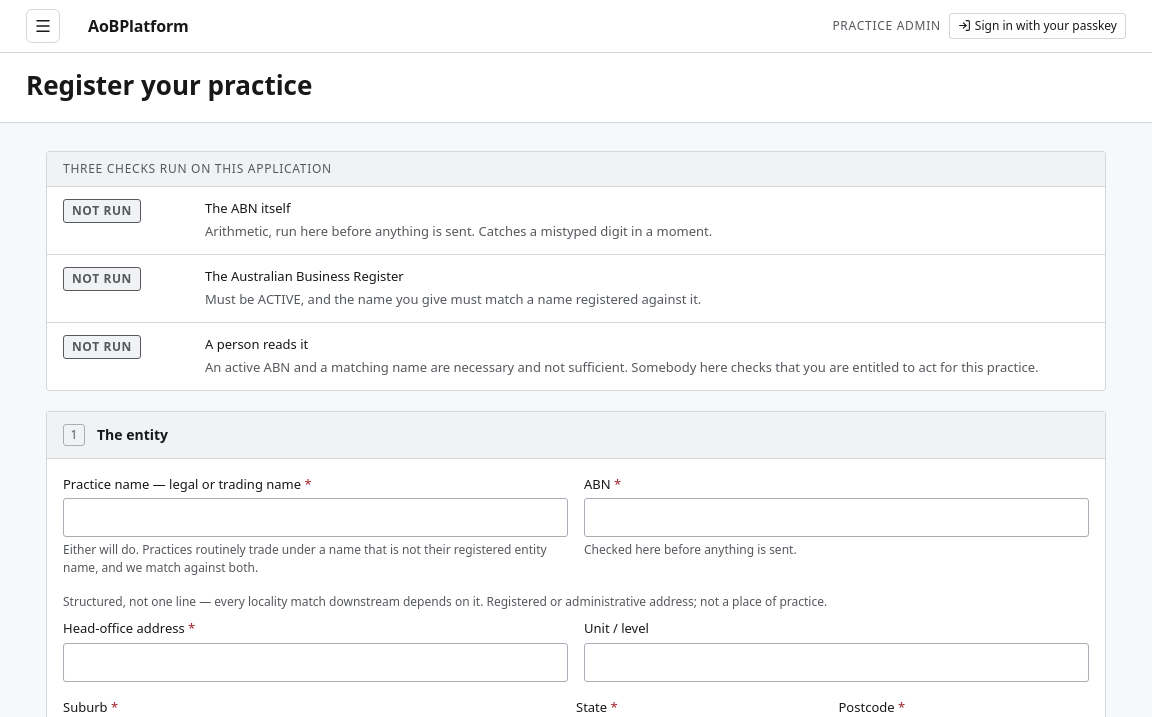
Test: the ABN preview › shows the entity the register matched, and fills the empty name field
This screenshot has width=1152, height=717.
Type "51824753556" into the field with test id "apply-abn".
click(836, 518); type("51824753556")  # box [584, 498, 1089, 537]
Wait 500 ms
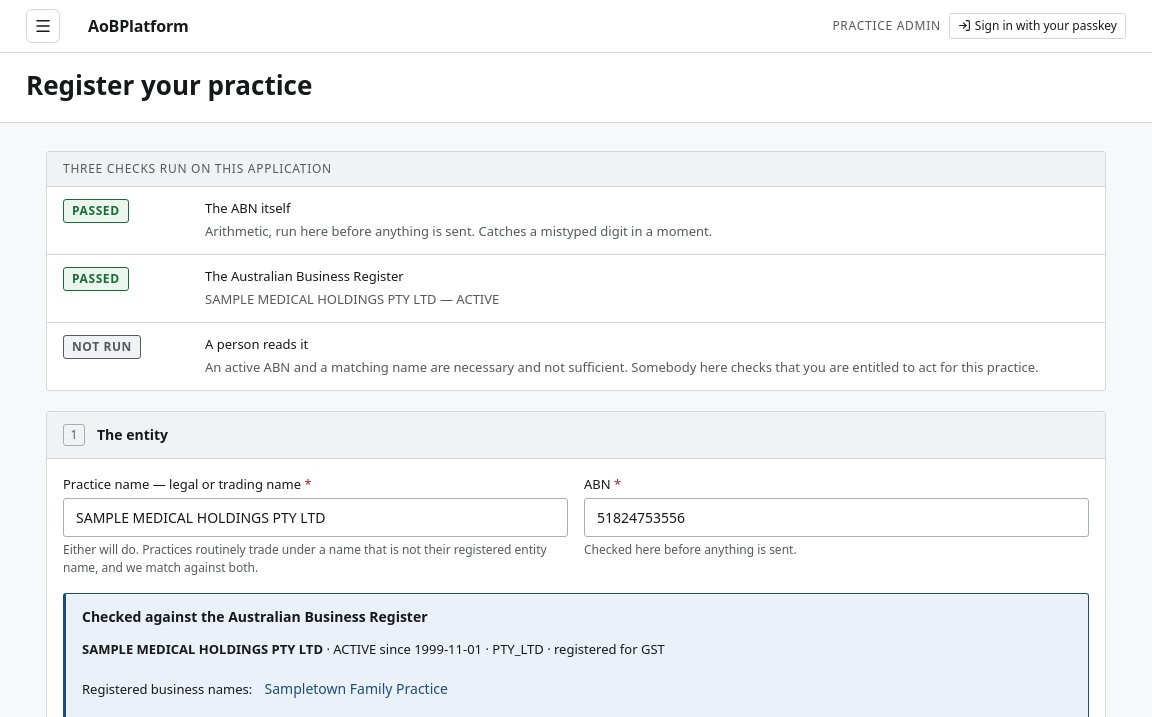
Expected: the message with test id "apply-abr-found" shows "SAMPLE MEDICAL HOLDINGS PTY LTD", [82, 640, 323, 658]
Expected: the message with test id "apply-abr-found" shows "ACTIVE", [333, 640, 376, 658]
Expected: the message with test id "apply-abr-found" shows "Sampletown Family Practice", [256, 672, 457, 704]
